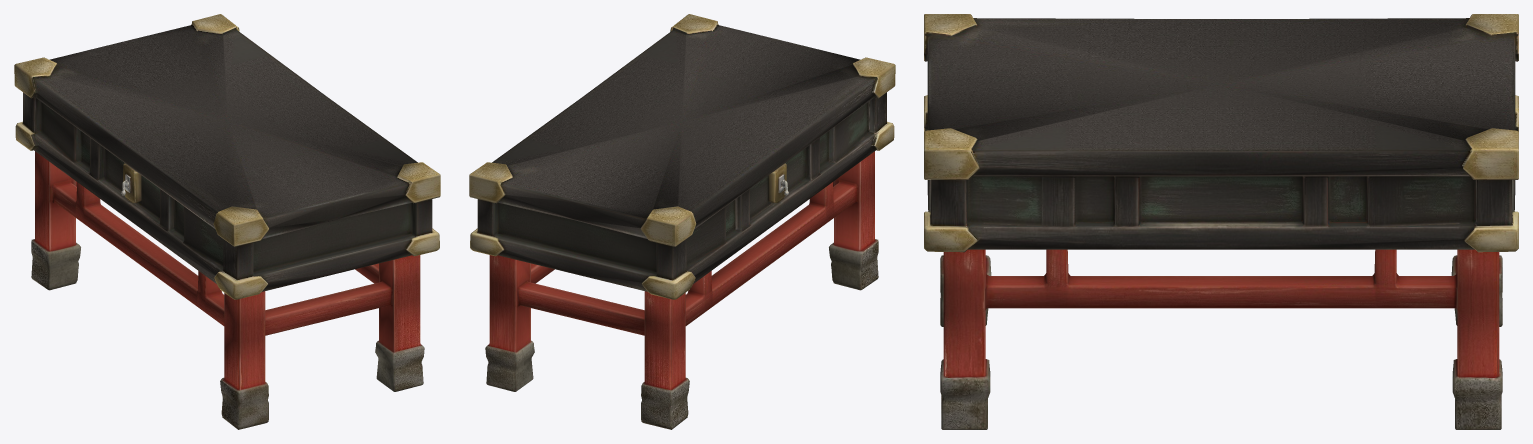
Rendered from tripo_convert_fb952b21-7502-42de-b186-e37eb52519c7.fbx.
3 renders of one model, left to right at view 1: azimuth 30°, elevation 25°; view 2: azimuth 150°, elevation 25°; view 3: azimuth 270°, elevation 25°, orthographic. The views are drawn at different scales.
Visible parts, largest first — view 1: tripo_node_fb952b21; view 2: tripo_node_fb952b21; view 3: tripo_node_fb952b21.
Boxes of the visible parts, left/top/right/bottom form: tripo_node_fb952b21: left=14, top=14, right=440, bottom=429; tripo_node_fb952b21: left=469, top=14, right=895, bottom=429; tripo_node_fb952b21: left=924, top=14, right=1518, bottom=429.
Bounding box in the file's own units: 0.5488 × 0.5332 × 0.998.
Materials: 1 (1 with a texture image).
